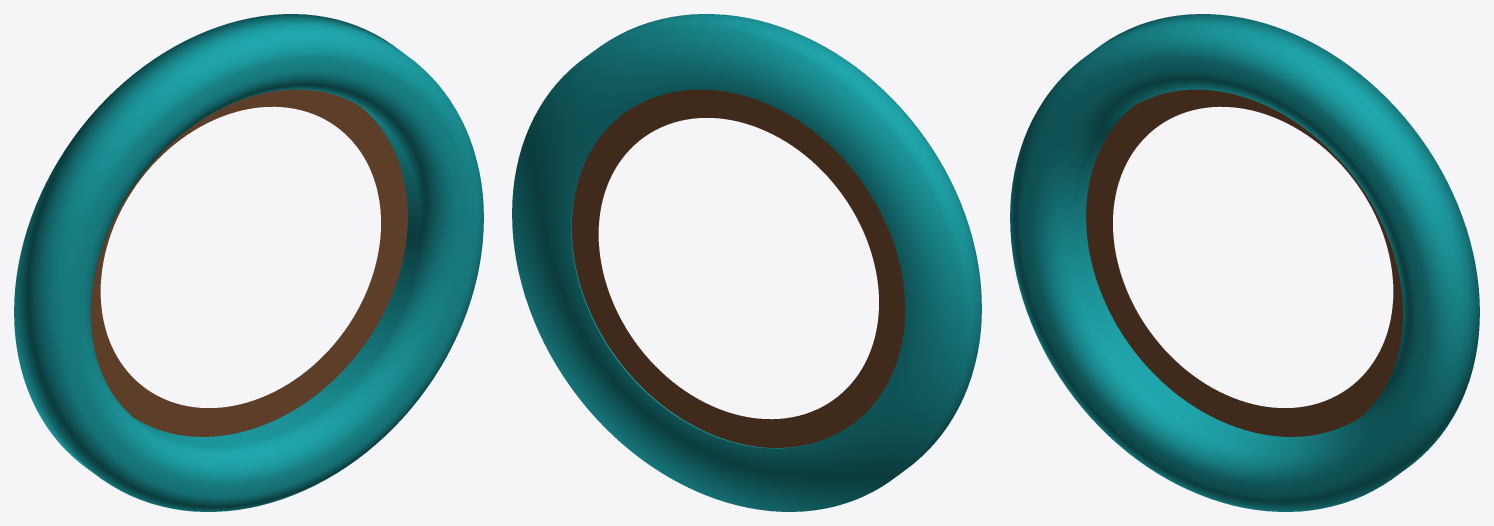
The model's file is select_ring.glb.
3 renders of one model, left to right at view 1: azimuth 30°, elevation 25°; view 2: azimuth 150°, elevation 25°; view 3: azimuth 330°, elevation 25°, orthographic.
Visible parts, largest first — view 1: select_ring, select_ring_recess; view 2: select_ring, select_ring_recess; view 3: select_ring, select_ring_recess.
Part boxes in pixels (x1,y1,x2,y2): select_ring: (14, 14, 483, 511); select_ring_recess: (90, 89, 407, 436); select_ring: (512, 14, 981, 511); select_ring_recess: (571, 89, 905, 447); select_ring: (1010, 14, 1479, 511); select_ring_recess: (1086, 89, 1403, 436).
Size of the model in its own units: 1.52 by 1.52 by 0.165.
